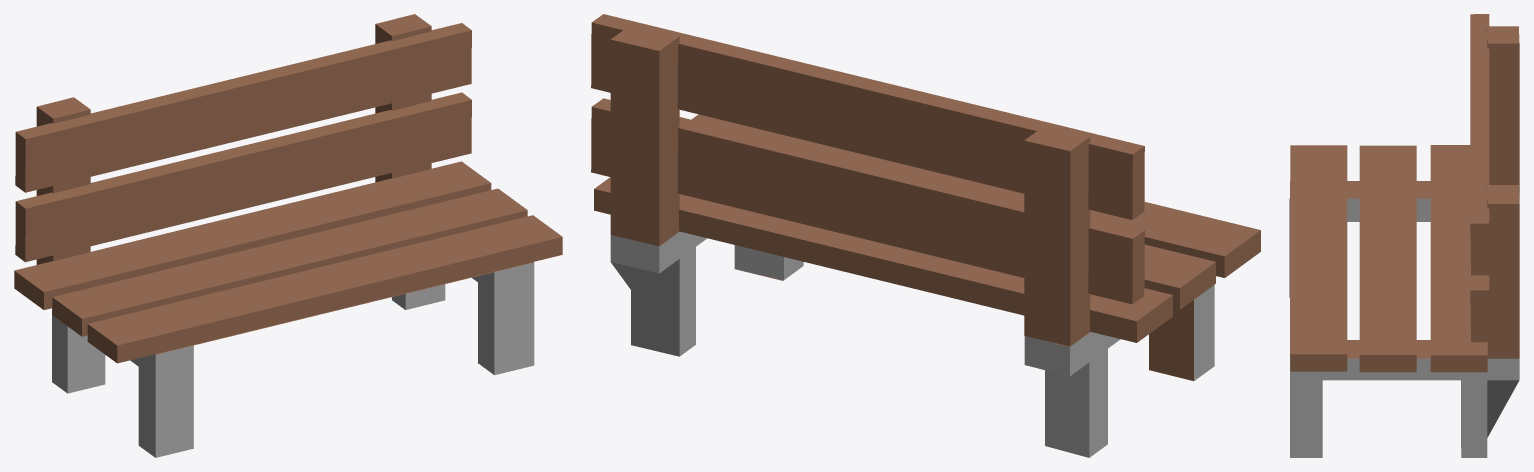
The model's file is tr_bench_v2.fbx.
3 renders of one model, left to right at view 1: azimuth 30°, elevation 25°; view 2: azimuth 150°, elevation 25°; view 3: azimuth 270°, elevation 25°, orthographic. The views are drawn at different scales.
Visible parts, largest first — view 1: Cube; view 2: Cube; view 3: Cube.
Boxes of the visible parts, bbox=[...] form: Cube: bbox=[14, 14, 562, 457]; Cube: bbox=[591, 14, 1260, 457]; Cube: bbox=[1289, 14, 1519, 457].
Bounding box in the file's own units: 563 × 317 × 260.
